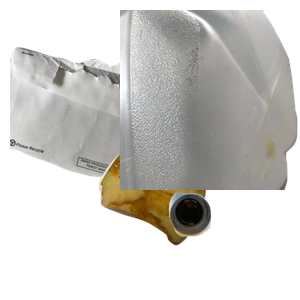glass: (166, 190, 300, 300)
paper: (10, 45, 250, 225)
plastic: (120, 10, 300, 190)
trash: (96, 145, 295, 300)
